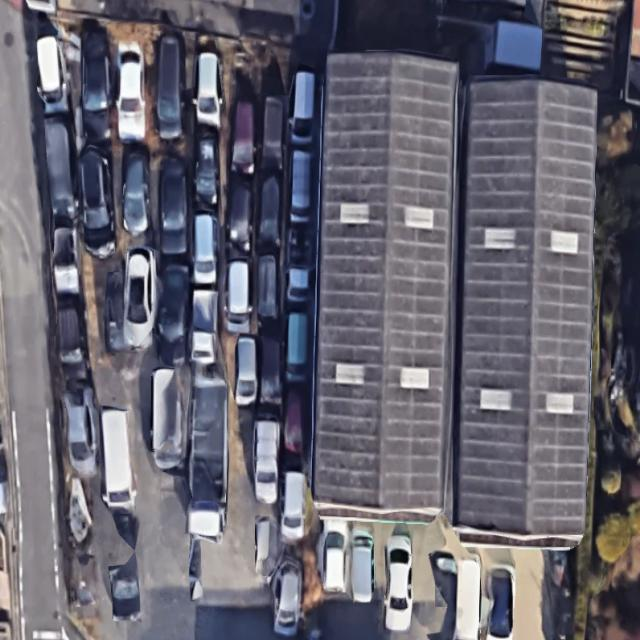Batiment: (315, 53, 458, 510), (455, 79, 596, 539)
